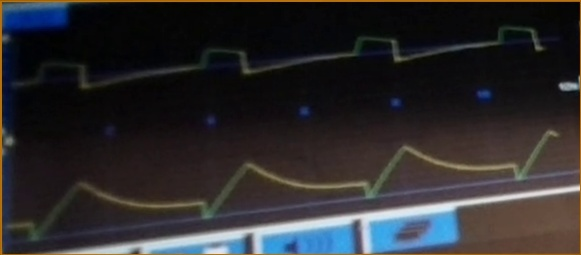Flow: (20, 25, 546, 98)
Leakage Volume: (19, 128, 557, 244)
